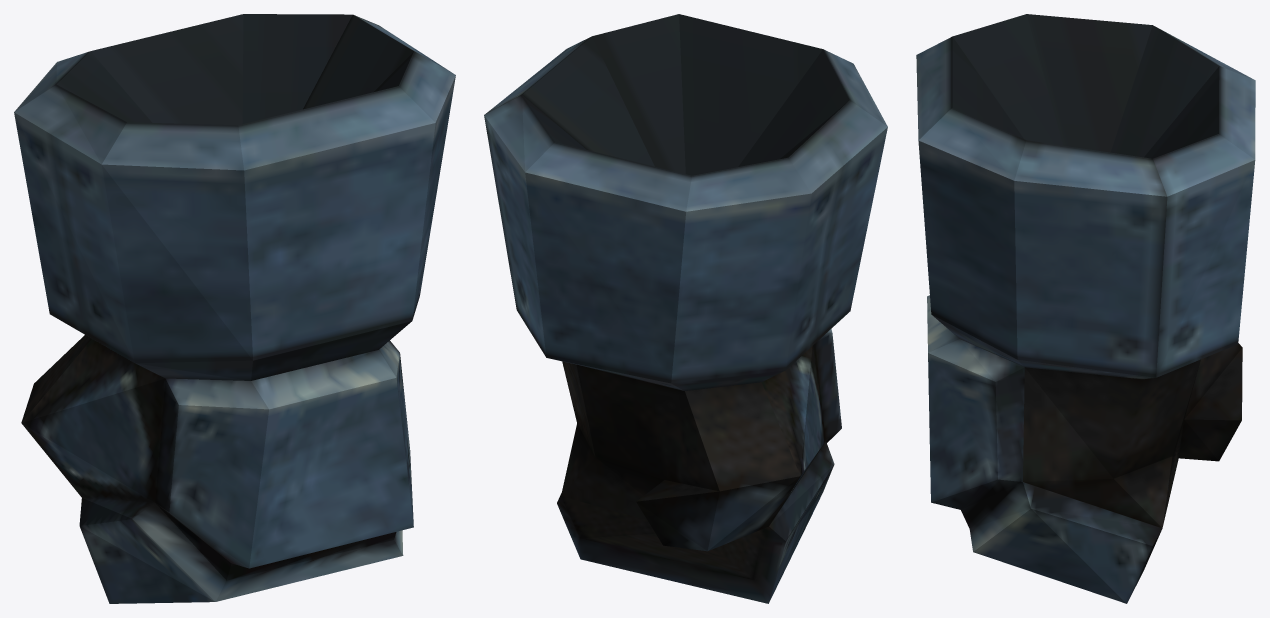
Rendered from Panda_brawlerGauntlet_right.obj.
3 renders of one model, left to right at view 1: azimuth 30°, elevation 25°; view 2: azimuth 150°, elevation 25°; view 3: azimuth 270°, elevation 25°, orthographic. The views are drawn at different scales.
Visible parts, largest first — view 1: Panda_brawlerGauntlet_tri [right]; view 2: Panda_brawlerGauntlet_tri [right]; view 3: Panda_brawlerGauntlet_tri [right].
Boxes of the visible parts, <box> form: Panda_brawlerGauntlet_tri [right]: <box>14,14,455,603</box>; Panda_brawlerGauntlet_tri [right]: <box>484,14,887,603</box>; Panda_brawlerGauntlet_tri [right]: <box>916,14,1255,603</box>.
Bounding box in the file's own units: 0.1369 × 0.1936 × 0.1213.
1 material, 1 textured.
